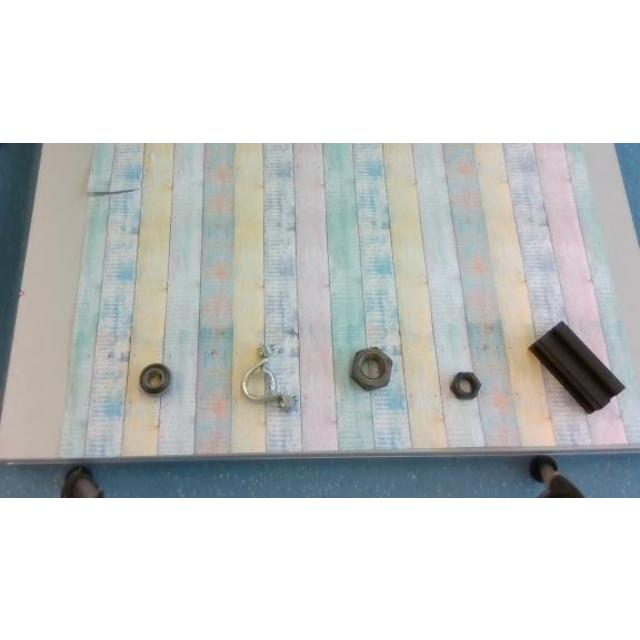Bearing2: (138, 364, 170, 394)
Housing: (242, 341, 300, 411)
M20: (450, 371, 480, 399)
M30: (350, 347, 392, 389)
S40_40_B: (529, 321, 623, 412)
